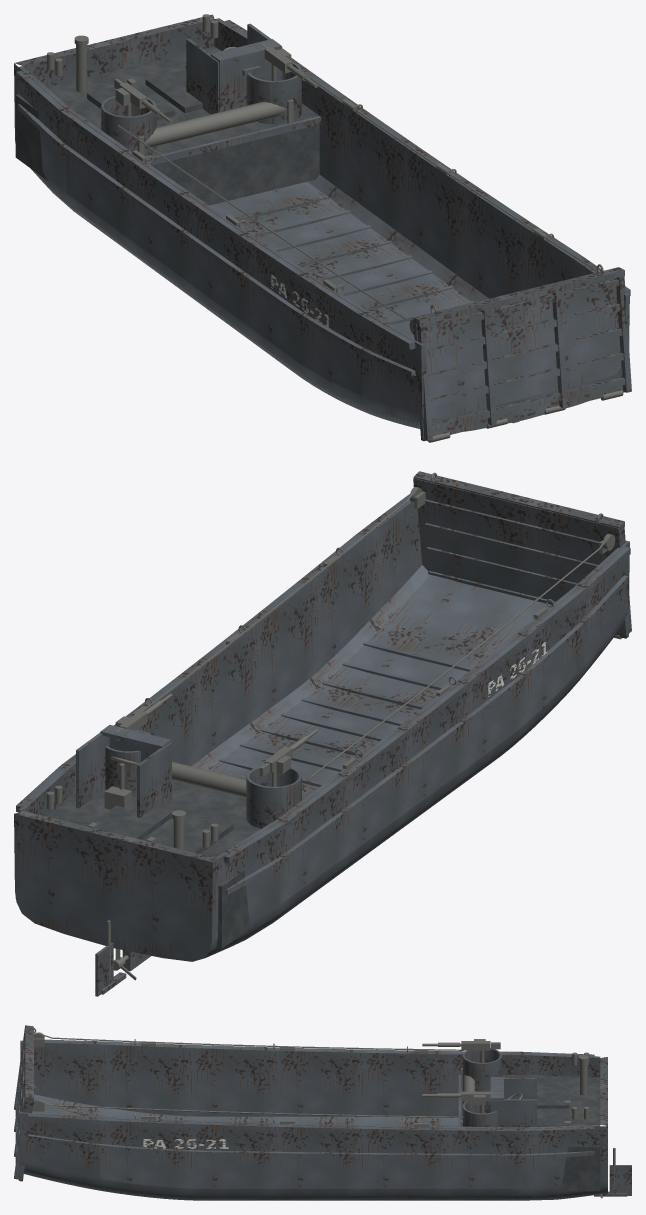
Rendered from landing_craft.glb.
The picture shows the model from 3 angles, top to bottom: view 1: azimuth 30°, elevation 25°; view 2: azimuth 150°, elevation 25°; view 3: azimuth 270°, elevation 25°; orthographic projection. The views are drawn at different scales.
Parts seen in each view (by area): view 1: Hull, Ramp, AftDeck, Fittings; view 2: Hull, Ramp, AftDeck, Fittings; view 3: Hull, AftDeck, Fittings, Ramp, HullNumbers.
Boxes of the visible parts, x1=… form: Hull: x1=14, y1=14, x2=630, y2=431; Ramp: x1=413, y1=267, x2=631, y2=441; AftDeck: x1=15, y1=46, x2=319, y2=205; Fittings: x1=47, y1=14, x2=597, y2=334; Hull: x1=14, y1=494, x2=630, y2=996; Ramp: x1=413, y1=471, x2=631, y2=638; AftDeck: x1=15, y1=780, x2=260, y2=948; Fittings: x1=47, y1=486, x2=615, y2=980; Hull: x1=20, y1=1039, x2=631, y2=1200; AftDeck: x1=461, y1=1075, x2=600, y2=1191; Fittings: x1=33, y1=1032, x2=615, y2=1198; Ramp: x1=14, y1=1025, x2=33, y2=1181; HullNumbers: x1=143, y1=1139, x2=228, y2=1148.
Bounding box in the file's own units: 3.51 × 2.88 × 11.57.
4 materials, 3 textured.
